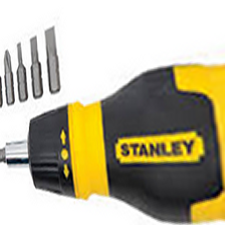Screwdriver: (5, 63, 225, 225)
